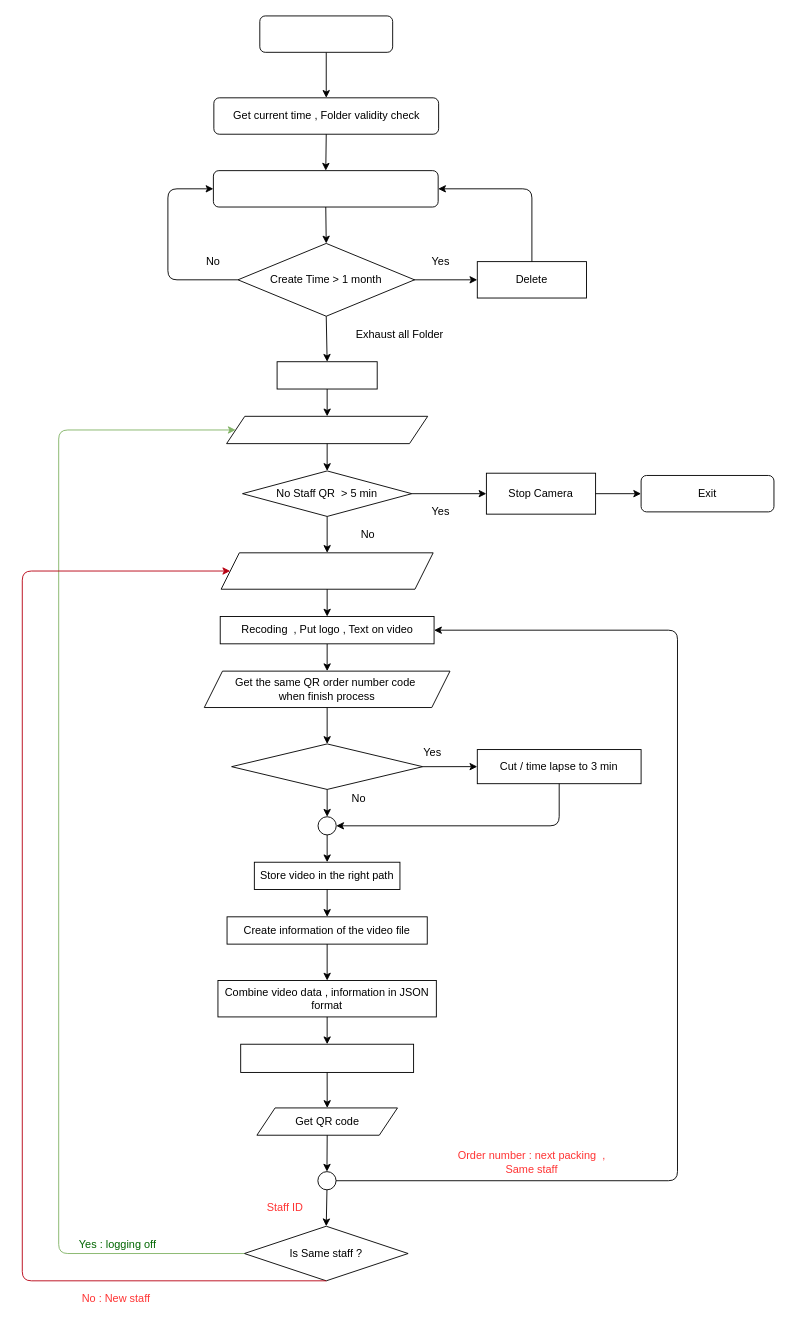
Image size: 790x1324. Some labels were removed from this diagram. Each missing label, with the centre of its shape:
"Get QR code for order number" goes at [326,570].
"Get QR code for Staff ID" goes at [327,429].
"Open Camera" goes at [326,375].
"Send to JSON data to server" goes at [327,1057].
"Start Program" goes at [326,33].
"Video length > 3 min" goes at [327,766].
"Walk in video directory and subfolder" goes at [325,188].
